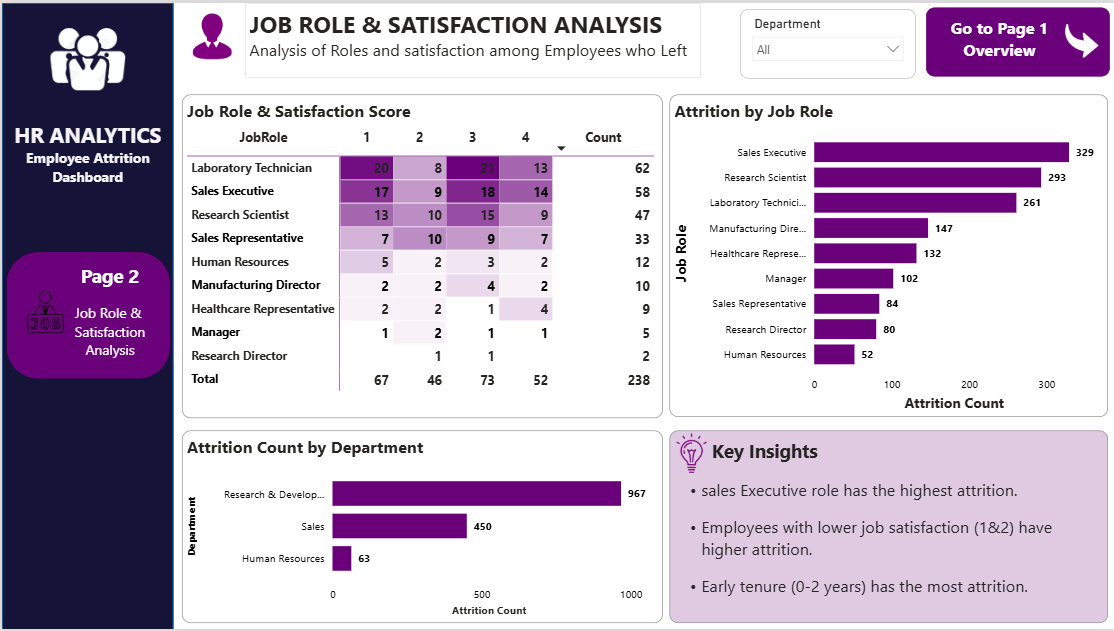

What the dashboard file says about the page in this screenshot:
{"tool":"powerbi","page":{"name":"Page 2","canvas":[1280,720],"ordinal":1},"visuals":[{"type":"shape","box":[0,0,197.1,720.6],"z":0},{"type":"image","box":[0,0,197.1,129.2],"z":1000},{"type":"textbox","box":[0,129.2,197.1,89.4],"z":2000},{"type":"textbox","box":[279.7,0,523.7,86.4],"z":3000},{"type":"slicer","fields":{"Values":["HR_Analytics.Department"]},"box":[849.1,6.5,201.7,79.7],"z":4000},{"type":"image","box":[196.5,12.3,89.5,52.6],"z":5000},{"type":"shape","box":[5.1,286.4,188.1,145.8],"z":6000},{"type":"textbox","box":[74.6,293.2,100,162.7],"z":7000},{"type":"actionButton","title":"Go to Page 1 Overview","box":[1062.1,5.7,211.7,79.4],"z":8000},{"type":"pivotTable","title":"Job Role & Satisfaction Score ","fields":{"Columns":["HR_Analytics.JobSatisfaction"],"Rows":["HR_Analytics.JobRole"],"Values":["Sum(HR_Analytics.EmployeeCount)"]},"box":[207,105.3,552.6,371.9],"z":9000},{"type":"barChart","title":"Attrition by Job Role","fields":{"Category":["HR_Analytics.JobRole"],"Y":["Sum(HR_Analytics.EmployeeCount)"]},"box":[775.4,105.3,505.3,371.9],"z":10000},{"type":"textbox","box":[766.7,491.2,505.3,221.1],"z":11000},{"type":"clusteredBarChart","title":"Attrition Count by Department","fields":{"Category":["HR_Analytics.Department"],"Y":["Sum(HR_Analytics.EmployeeCount)"]},"box":[207,491.2,552.6,221.1],"z":12000},{"type":"textbox","box":[1042.1,10.5,210.5,78.9],"z":12001},{"type":"image","box":[768.4,494.7,47.4,45.6],"z":12002},{"type":"image","box":[0,307,100,96.5],"z":12003},{"type":"image","box":[1201,24.6,78.9,38.6],"z":12004}]}

Visuals, with their boxes in screenshot pixels (x1, y1, x2, y2), scaled from the page's 1280x720 canvas onto the 1114x631 screenshot:
shape: 0, 0, 172, 630
image: 0, 0, 172, 113
textbox: 0, 113, 172, 192
textbox: 243, 0, 699, 76
slicer - HR_Analytics.Department: 739, 6, 915, 76
image: 171, 11, 249, 57
shape: 4, 251, 168, 379
textbox: 65, 257, 152, 400
"Go to Page 1 Overview" actionButton: 924, 5, 1109, 75
"Job Role & Satisfaction Score " pivotTable: 180, 92, 661, 418
"Attrition by Job Role" barChart: 675, 92, 1113, 418
textbox: 667, 430, 1107, 624
"Attrition Count by Department" clusteredBarChart: 180, 430, 661, 624
textbox: 907, 9, 1090, 78
image: 669, 434, 710, 474
image: 0, 269, 87, 354
image: 1045, 22, 1113, 55
